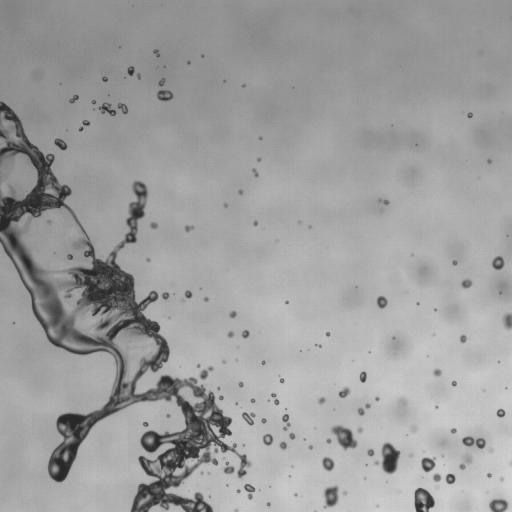droplet: (374, 442, 400, 474), (330, 425, 357, 450), (414, 488, 434, 511), (323, 485, 338, 508), (489, 498, 508, 511), (421, 457, 435, 472), (99, 102, 115, 115), (199, 366, 213, 379), (322, 456, 334, 471), (157, 90, 173, 101), (242, 412, 255, 425), (244, 483, 254, 499), (492, 256, 504, 269), (222, 461, 234, 474), (502, 312, 511, 329), (54, 138, 66, 150), (376, 296, 387, 308), (338, 386, 350, 397), (262, 434, 273, 445), (117, 103, 127, 114), (461, 278, 472, 288), (445, 473, 455, 484), (359, 371, 366, 382), (69, 95, 78, 103), (496, 409, 505, 417), (432, 473, 441, 481), (184, 290, 192, 298), (279, 441, 287, 449), (127, 66, 134, 75), (184, 225, 193, 232), (158, 78, 165, 86), (150, 222, 158, 229), (66, 252, 74, 259), (161, 292, 169, 299), (229, 310, 236, 318), (242, 330, 249, 338), (433, 369, 441, 376), (317, 397, 325, 404), (399, 398, 406, 405), (357, 408, 364, 415), (410, 425, 417, 432), (367, 449, 374, 456), (153, 49, 159, 56), (227, 331, 234, 337), (460, 335, 466, 342), (289, 433, 295, 439), (82, 120, 89, 125), (357, 427, 362, 433), (102, 76, 107, 81), (467, 112, 472, 117), (452, 260, 457, 265), (325, 331, 330, 336), (238, 382, 243, 387), (365, 403, 370, 408), (451, 428, 456, 433), (326, 438, 331, 443), (79, 126, 83, 131), (238, 190, 243, 194), (253, 221, 257, 226), (452, 381, 456, 386), (219, 395, 223, 400), (261, 418, 266, 422), (143, 422, 148, 426), (308, 445, 313, 449), (486, 473, 491, 477), (487, 159, 491, 163), (204, 297, 208, 301), (280, 378, 284, 382), (375, 397, 379, 401), (250, 398, 254, 402), (166, 414, 170, 418), (489, 448, 493, 452), (343, 491, 347, 495), (266, 502, 270, 506), (316, 344, 321, 347), (137, 74, 140, 78), (409, 453, 413, 456), (499, 477, 503, 480), (92, 100, 95, 103), (257, 158, 260, 161), (47, 220, 50, 223), (262, 361, 265, 364), (197, 364, 200, 367), (435, 485, 438, 488), (237, 489, 240, 492), (294, 493, 297, 496), (234, 509, 238, 511), (187, 61, 190, 63), (242, 84, 244, 87), (259, 137, 262, 139), (224, 204, 227, 206), (147, 258, 149, 261), (286, 300, 288, 303), (217, 387, 220, 389), (435, 406, 438, 408), (223, 360, 225, 362), (200, 472, 202, 474), (208, 495, 210, 497)
ligament: (0, 101, 250, 511), (462, 436, 485, 449), (459, 454, 472, 469), (282, 414, 290, 430), (271, 393, 279, 405), (252, 168, 258, 177), (378, 199, 388, 204), (510, 461, 511, 465)
